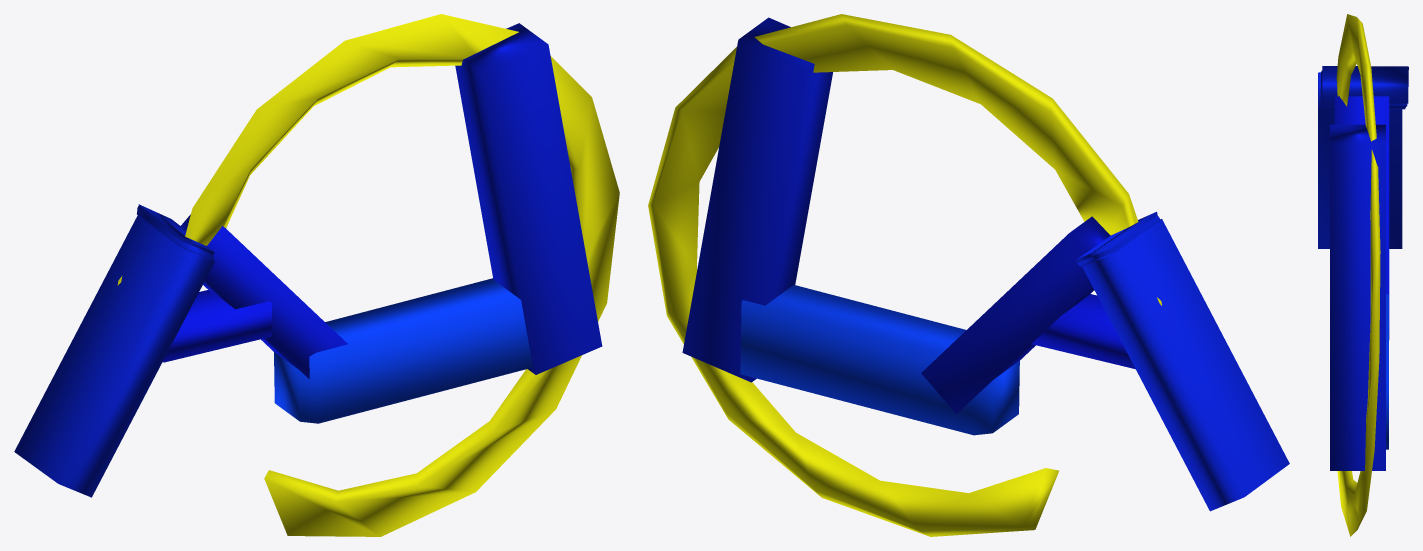
Rendered from rams.glb.
3 views of the same model, side by side, from view 1: azimuth 30°, elevation 25°; view 2: azimuth 150°, elevation 25°; view 3: azimuth 270°, elevation 25° (orthographic). The views are drawn at different scales.
Parts seen in each view (by area): view 1: Cube.005, Cube, Cube.004, Cube.001, Cube.002, Cube.003; view 2: Cube.005, Cube, Cube.004, Cube.001, Cube.002, Cube.003; view 3: Cube, Cube.005, Cube.004, Cube.002, Cube.001.
Part boxes in pixels (x1=…): Cube.005: x1=117, y1=14, x2=619, y2=536; Cube: x1=455, y1=23, x2=602, y2=374; Cube.004: x1=14, y1=204, x2=214, y2=497; Cube.001: x1=274, y1=278, x2=532, y2=423; Cube.002: x1=181, y1=214, x2=347, y2=379; Cube.003: x1=163, y1=290, x2=272, y2=362; Cube.005: x1=648, y1=14, x2=1161, y2=536; Cube: x1=682, y1=17, x2=832, y2=382; Cube.004: x1=1076, y1=211, x2=1289, y2=511; Cube.001: x1=740, y1=285, x2=1019, y2=435; Cube.002: x1=921, y1=216, x2=1110, y2=413; Cube.003: x1=1031, y1=294, x2=1135, y2=369; Cube: x1=1330, y1=124, x2=1385, y2=470; Cube.005: x1=1336, y1=14, x2=1380, y2=536; Cube.004: x1=1318, y1=66, x2=1408, y2=248; Cube.002: x1=1334, y1=96, x2=1389, y2=339; Cube.001: x1=1386, y1=294, x2=1388, y2=449.
Size of the model in its own units: 5.91 by 4.75 by 0.8206.
